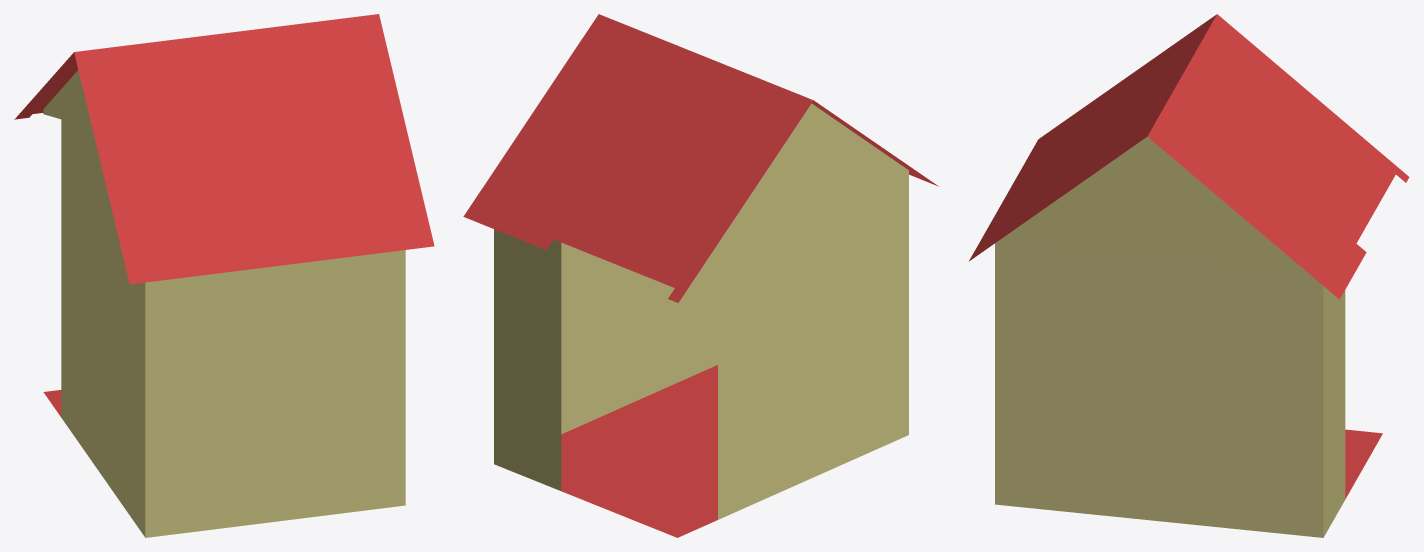
The picture shows the model from 3 angles, left to right: view 1: azimuth 30°, elevation 25°; view 2: azimuth 150°, elevation 25°; view 3: azimuth 270°, elevation 25°; orthographic projection. The views are drawn at different scales.
Size of the model in its own units: 12.99 by 15.1 by 14.84.
